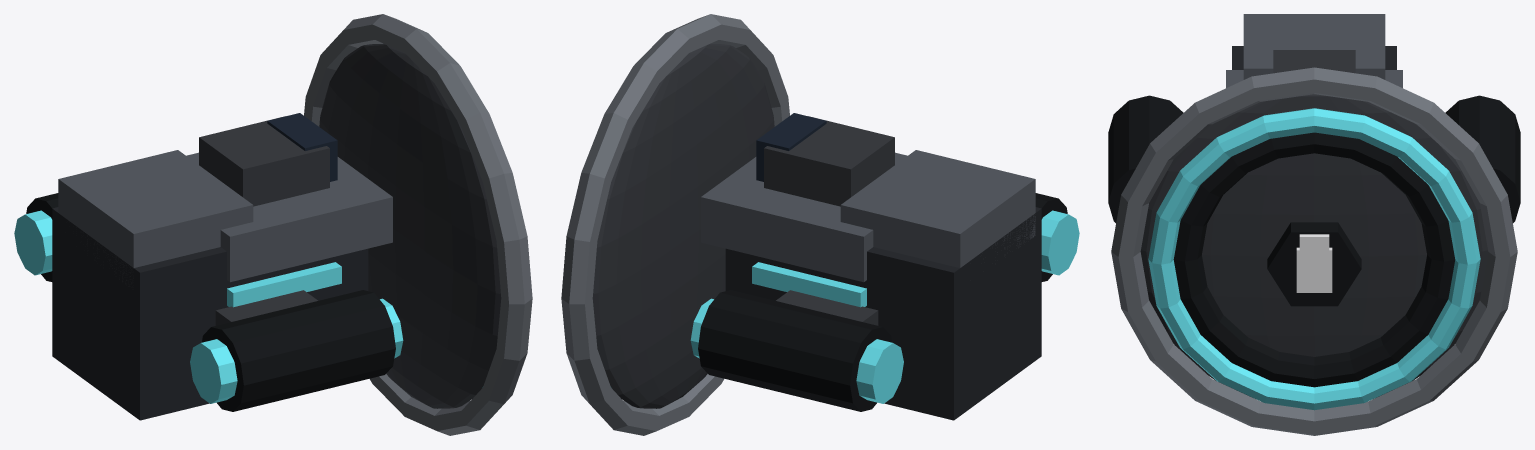
File: FC_Shield.obj
3 renders of one model, left to right at view 1: azimuth 30°, elevation 25°; view 2: azimuth 150°, elevation 25°; view 3: azimuth 270°, elevation 25°, orthographic. The views are drawn at different scales.
Parts seen in each view (by area): view 1: FC_Shield; view 2: FC_Shield; view 3: FC_Shield.
Part boxes in pixels (x1,y1,x2,y2): FC_Shield: [14, 14, 532, 435]; FC_Shield: [561, 14, 1079, 435]; FC_Shield: [1108, 14, 1520, 435].
Size of the model in its own units: 0.67 by 0.69 by 0.7.
